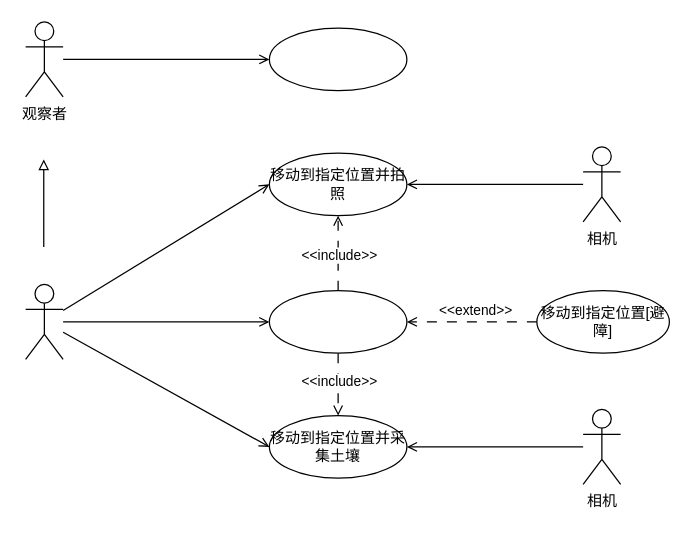
Image size: 691x533. Some labels were removed from this diagram. Each missing label, with the centre of its shape:
控制者: [43,321]
移动到指定位置: [337,321]
观察路径中是否有障碍: [337,59]
